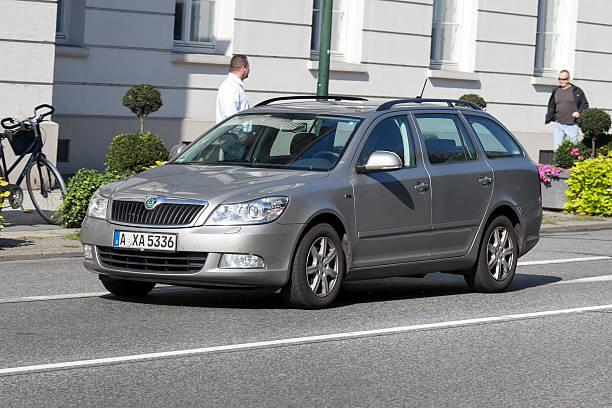skoda: (138, 194, 164, 214)
